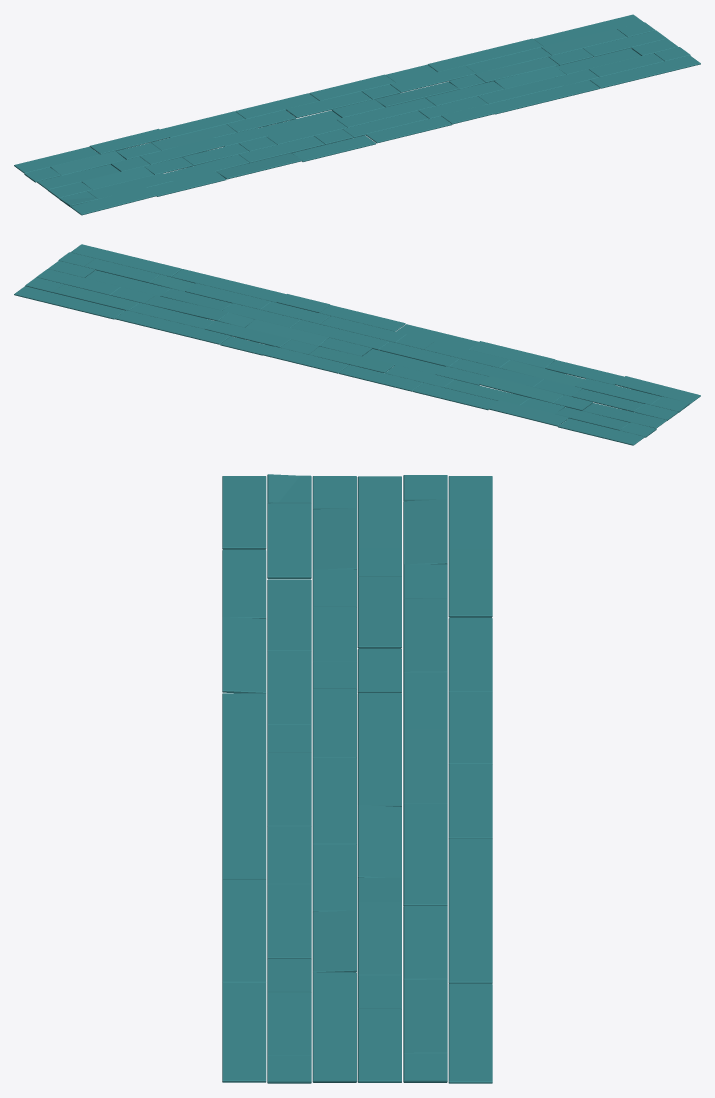
Rendered from Wood Floor Low.fbx.
3 views of the same model, one above another, from view 1: azimuth 30°, elevation 25°; view 2: azimuth 150°, elevation 25°; view 3: azimuth 270°, elevation 25° (orthographic). The views are drawn at different scales.
Visible parts, largest first — view 1: Wood_Floor_04_low, Wood_Floor_05_low, Wood_Floor_56_low, Wood_Floor_57_low, Wood_Floor_28_low, Wood_Floor_01_low, Wood_Floor_03_low, Wood_Floor_49_low, Wood_Floor_15_low, Wood_Floor_48_low, Wood_Floor_35_low, Wood_Floor_07_low (+45 smaller); view 2: Wood_Floor_56_low, Wood_Floor_57_low, Wood_Floor_04_low, Wood_Floor_05_low, Wood_Floor_28_low, Wood_Floor_53_low, Wood_Floor_55_low, Wood_Floor_54_low, Wood_Floor_02_low, Wood_Floor_49_low, Wood_Floor_01_low, Wood_Floor_35_low (+44 smaller); view 3: Wood_Floor_56_low, Wood_Floor_04_low, Wood_Floor_05_low, Wood_Floor_57_low, Wood_Floor_28_low, Wood_Floor_02_low, Wood_Floor_13_low, Wood_Floor_11_low, Wood_Floor_48_low, Wood_Floor_49_low, Wood_Floor_45_low, Wood_Floor_52_low (+47 smaller).
Boxes of the visible parts, bbox=[...] form: Wood_Floor_04_low: bbox=[485, 80, 599, 114]; Wood_Floor_05_low: bbox=[590, 55, 700, 88]; Wood_Floor_56_low: bbox=[427, 38, 542, 71]; Wood_Floor_57_low: bbox=[533, 14, 643, 46]; Wood_Floor_28_low: bbox=[337, 98, 435, 127]; Wood_Floor_01_low: bbox=[70, 187, 156, 215]; Wood_Floor_03_low: bbox=[366, 116, 451, 143]; Wood_Floor_49_low: bbox=[390, 65, 475, 92]; Wood_Floor_15_low: bbox=[239, 136, 324, 163]; Wood_Floor_48_low: bbox=[286, 91, 371, 117]; Wood_Floor_35_low: bbox=[140, 137, 224, 164]; Wood_Floor_07_low: bbox=[292, 135, 376, 161]; Wood_Floor_56_low: bbox=[115, 310, 230, 344]; Wood_Floor_57_low: bbox=[14, 286, 124, 319]; Wood_Floor_04_low: bbox=[171, 269, 285, 302]; Wood_Floor_05_low: bbox=[70, 244, 181, 276]; Wood_Floor_28_low: bbox=[291, 320, 389, 350]; Wood_Floor_53_low: bbox=[558, 418, 644, 445]; Wood_Floor_55_low: bbox=[262, 346, 348, 373]; Wood_Floor_54_low: bbox=[412, 383, 498, 410]; Wood_Floor_02_low: bbox=[470, 341, 555, 368]; Wood_Floor_49_low: bbox=[205, 321, 290, 347]; Wood_Floor_01_low: bbox=[614, 376, 700, 403]; Wood_Floor_35_low: bbox=[479, 376, 563, 403]; Wood_Floor_56_low: bbox=[448, 879, 492, 983]; Wood_Floor_04_low: bbox=[222, 879, 266, 982]; Wood_Floor_05_low: bbox=[222, 982, 266, 1082]; Wood_Floor_57_low: bbox=[448, 983, 492, 1083]; Wood_Floor_28_low: bbox=[312, 757, 356, 844]; Wood_Floor_02_low: bbox=[222, 617, 266, 693]; Wood_Floor_13_low: bbox=[267, 503, 311, 578]; Wood_Floor_11_low: bbox=[267, 884, 311, 959]; Wood_Floor_48_low: bbox=[403, 729, 447, 804]; Wood_Floor_49_low: bbox=[403, 831, 447, 905]; Wood_Floor_45_low: bbox=[403, 598, 447, 672]; Wood_Floor_52_low: bbox=[403, 979, 447, 1053].
Size of the model in its own units: 8.22 by 0.044 by 1.55.
